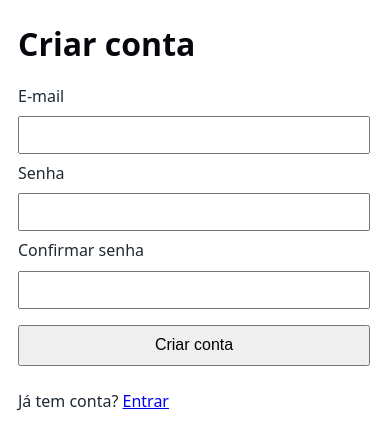
Test: RegisterPage (fluxo completo via App real) › shows the backend error message when the e-mail is already registered
Type "taken@example.com" into the field labelled "E-mail" at [194, 135], box [18,116,370,154]
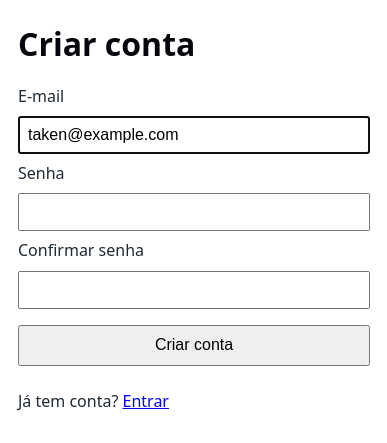
Type "StrongPass1" into the password field labelled "Senha" at [194, 212], box [18,193,370,231]
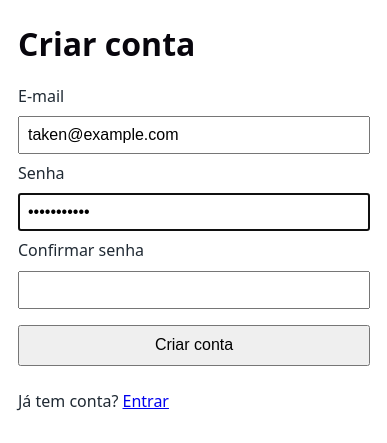
Type "StrongPass1" into the password field labelled "Confirmar senha" at [194, 290], box [18,271,370,309]
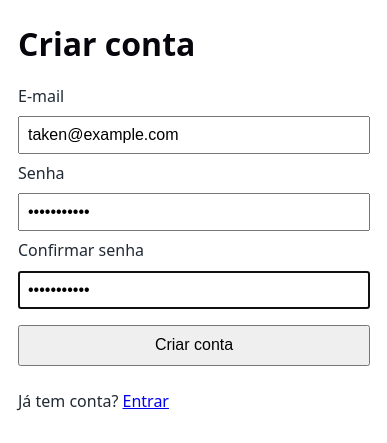
Click the button "Criar conta" at [194, 345], box [18,325,370,366]
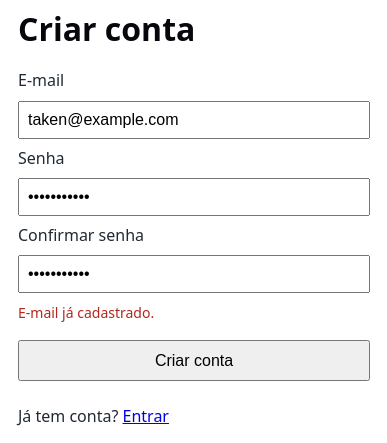
Check: the message reads "E-mail já cadastrado.", box [18,303,154,322]
